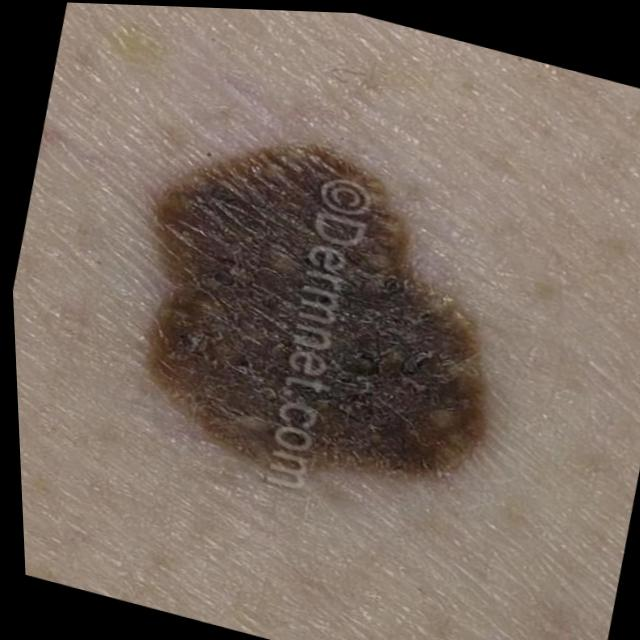Eczema: (160, 151, 479, 496)
